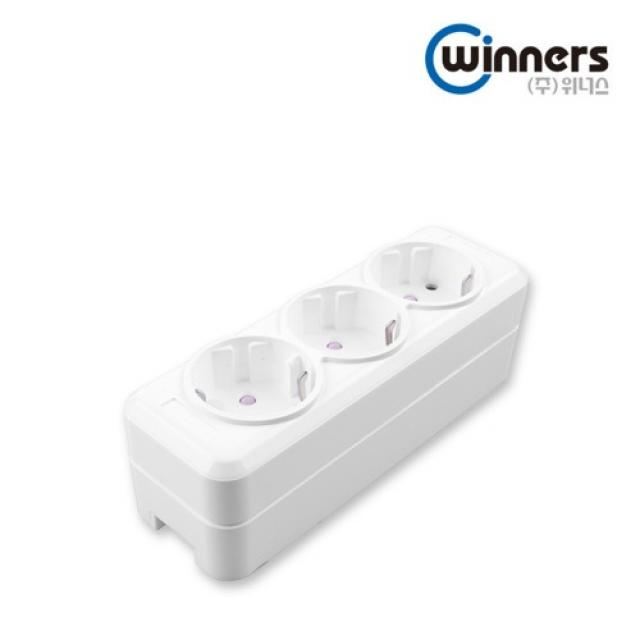typeb: (85, 202, 583, 594)
